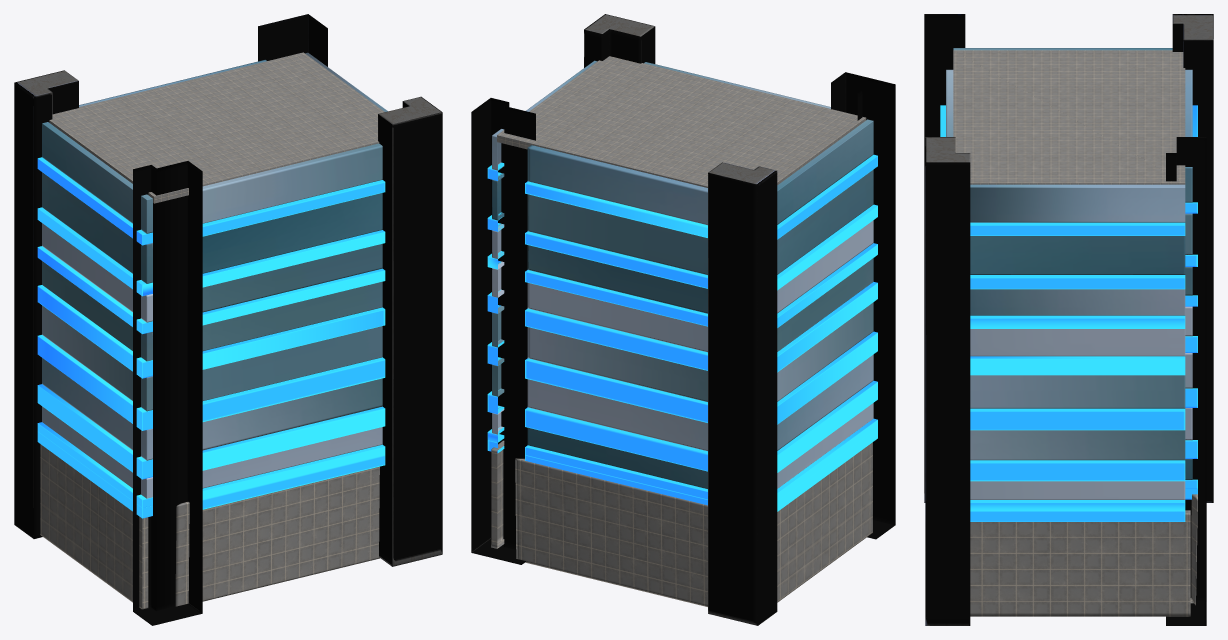
Rendered from enforced_building_painted.fbx.
3 views of the same model, side by side, from view 1: azimuth 30°, elevation 25°; view 2: azimuth 150°, elevation 25°; view 3: azimuth 270°, elevation 25° (orthographic). The views are drawn at different scales.
Visible parts, largest first — view 1: pillars, windows, neon_base, ground_area, roof; view 2: pillars, windows, neon_base, ground_area, roof; view 3: windows, pillars, roof, neon_base, ground_area.
Part boxes in pixels (x1,y1,x2,y2): pillars: [14, 14, 442, 625]; windows: [42, 52, 387, 498]; neon_base: [37, 157, 385, 518]; ground_area: [40, 444, 379, 609]; roof: [49, 52, 384, 203]; pillars: [471, 14, 895, 625]; windows: [492, 60, 873, 488]; neon_base: [487, 154, 877, 511]; ground_area: [491, 440, 872, 606]; roof: [497, 56, 866, 187]; windows: [946, 48, 1192, 499]; pillars: [924, 14, 1213, 625]; roof: [953, 50, 1185, 184]; neon_base: [940, 105, 1197, 521]; ground_area: [970, 494, 1197, 616].
Size of the model in its own units: 1212 by 1769 by 997.
